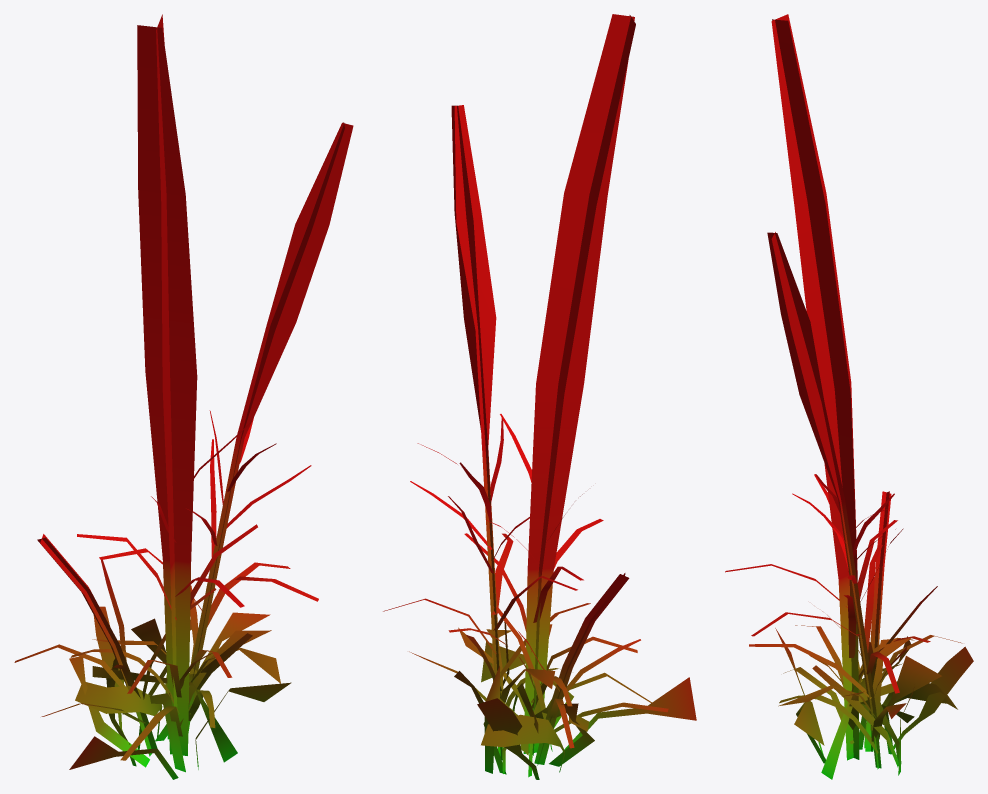
Rendered from Var5_LOD2.fbx.
3 views of the same model, side by side, from view 1: azimuth 30°, elevation 25°; view 2: azimuth 150°, elevation 25°; view 3: azimuth 270°, elevation 25° (orthographic). The views are drawn at different scales.
Visible parts, largest first — view 1: _9986_Var5_LOD2; view 2: _9986_Var5_LOD2; view 3: _9986_Var5_LOD2.
Part boxes in pixels (x1,y1,x2,y2): _9986_Var5_LOD2: [14, 14, 353, 779]; _9986_Var5_LOD2: [383, 14, 696, 779]; _9986_Var5_LOD2: [725, 14, 973, 779].
Bounding box in the file's own units: 18.8 × 50.74 × 15.86.
